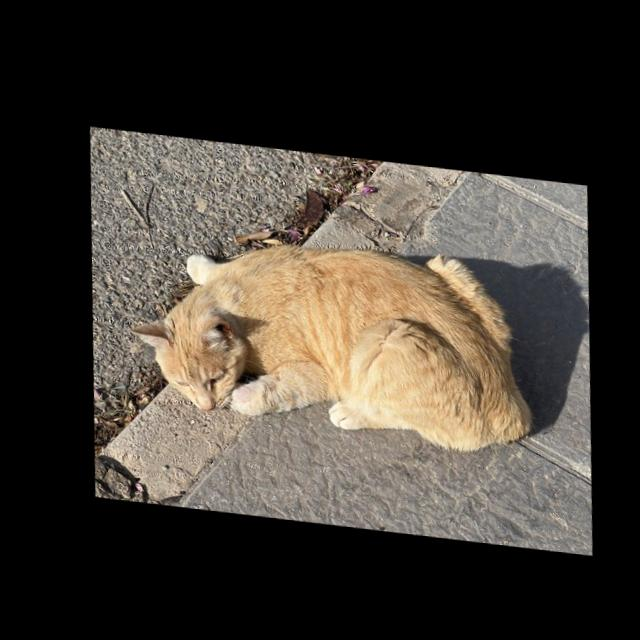animals: (113, 218, 536, 453)
